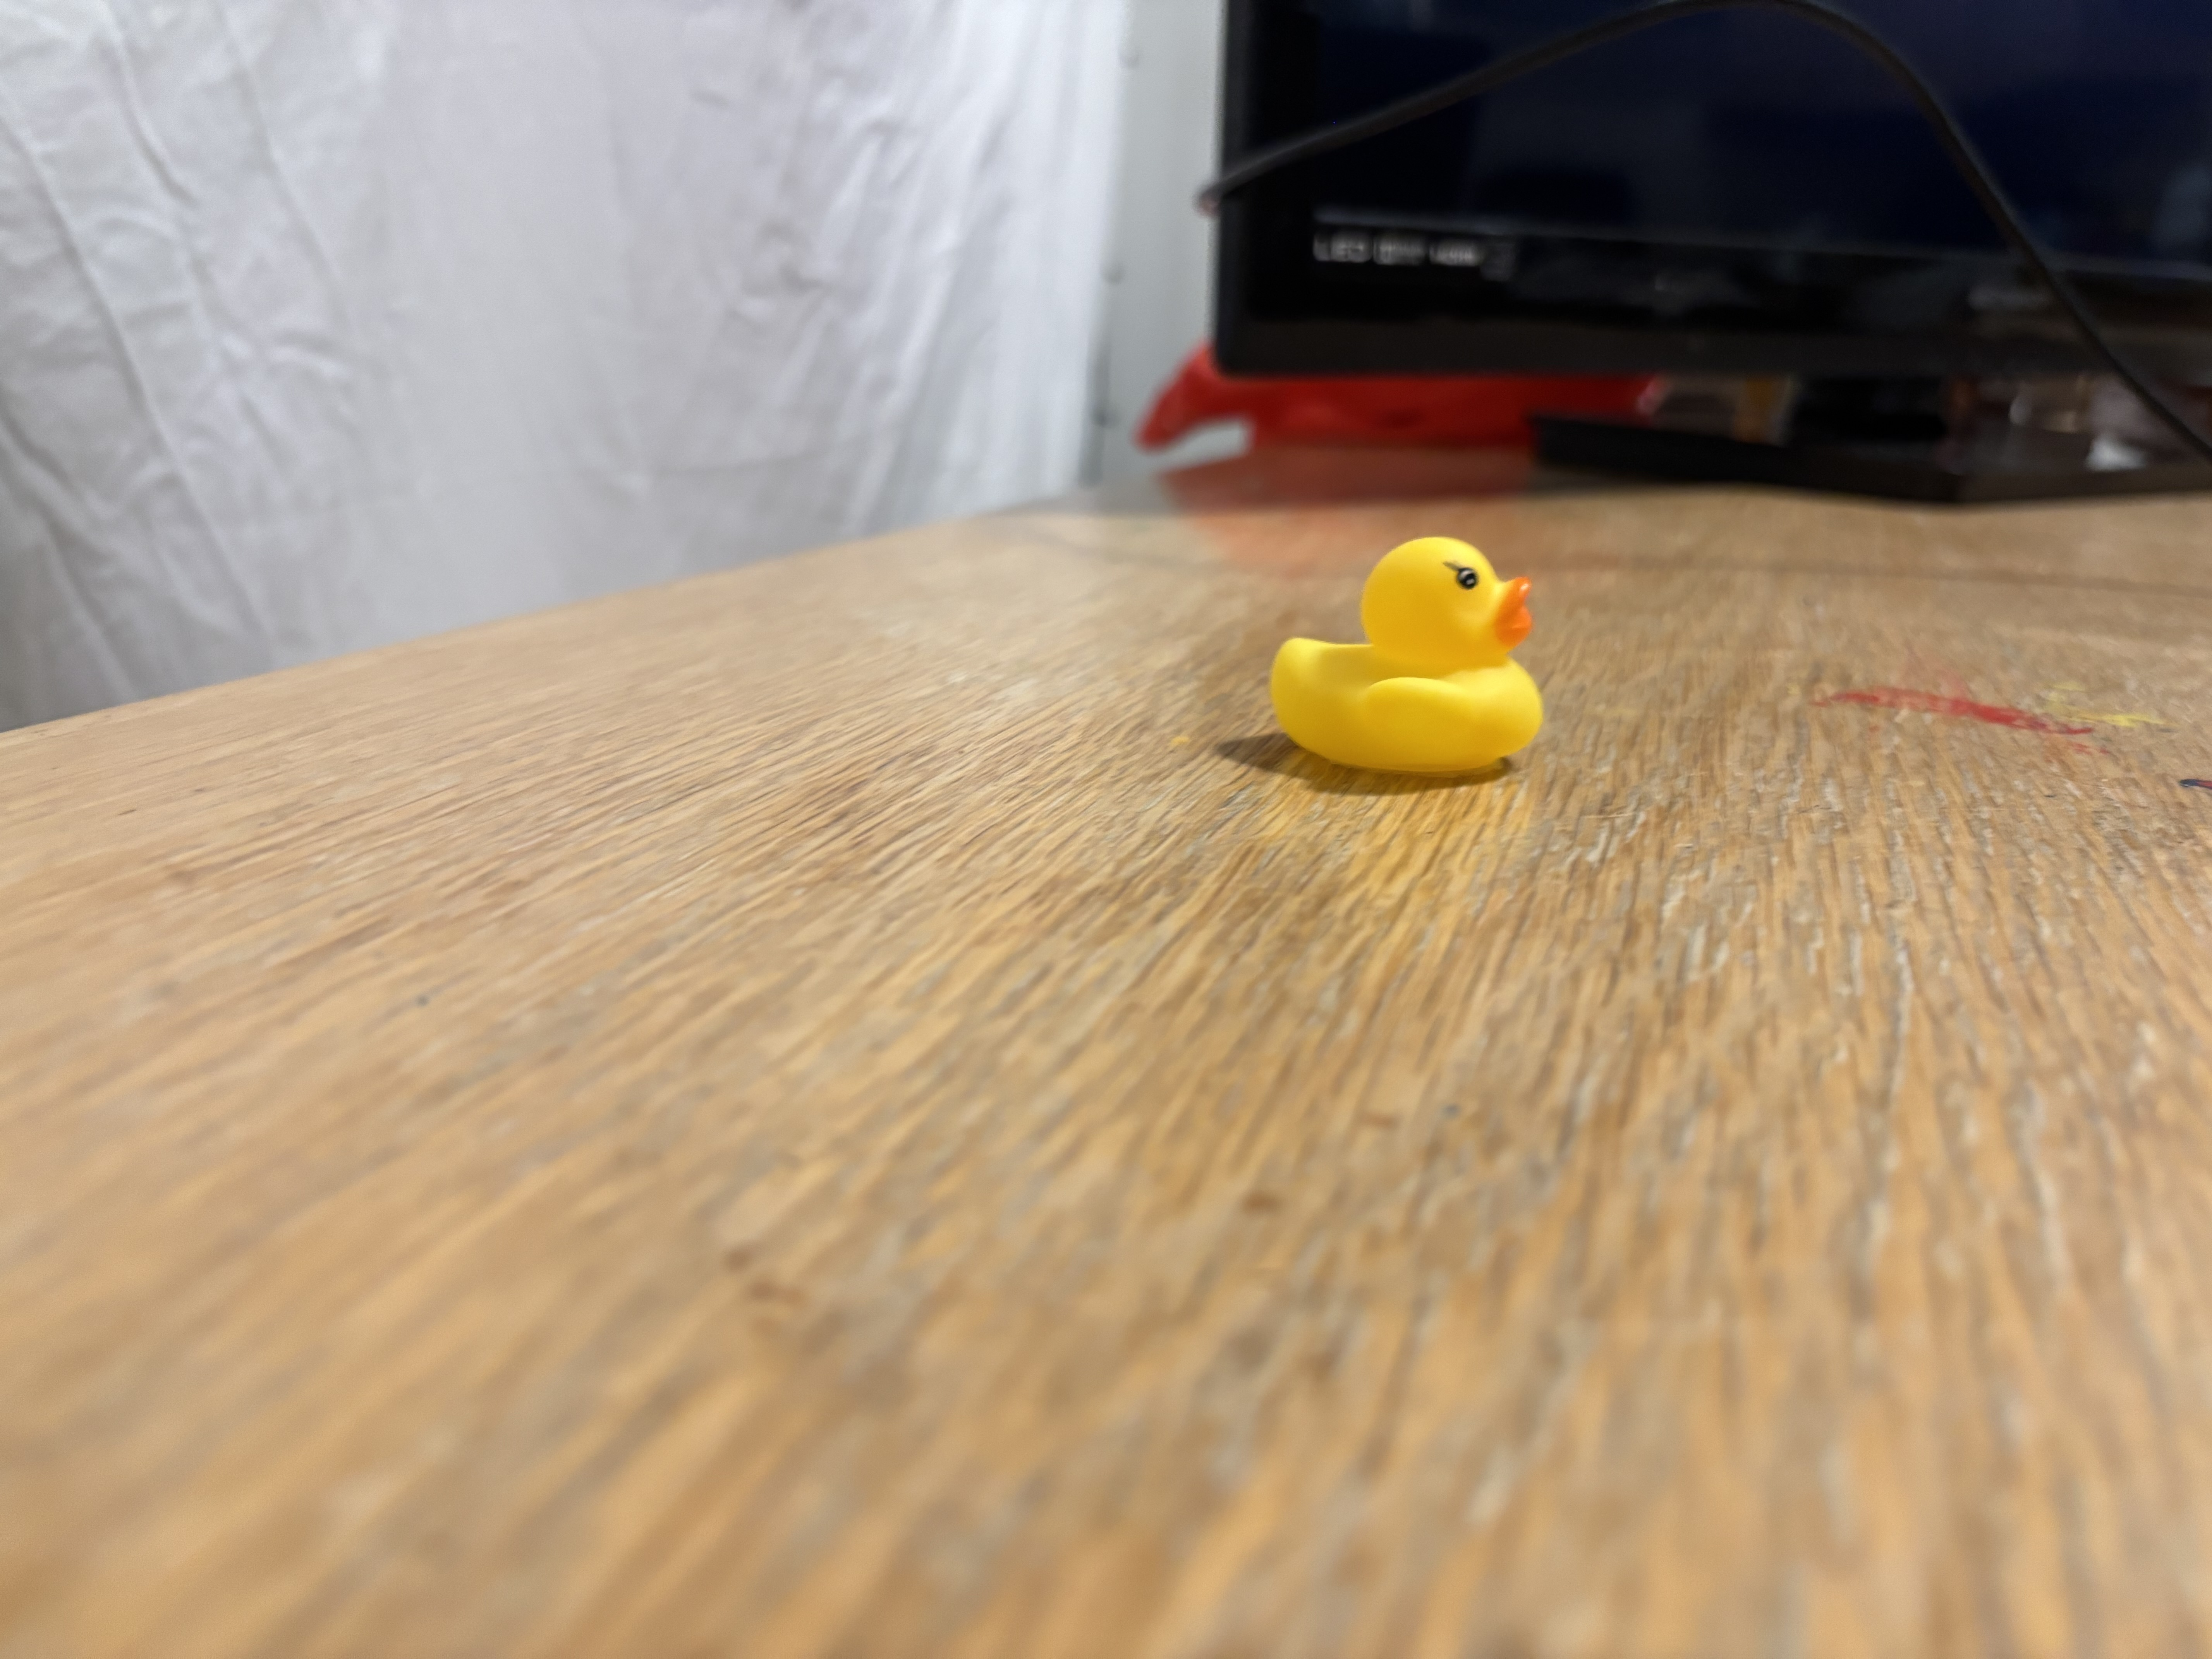duck_regular: (1231, 533, 1561, 795)
